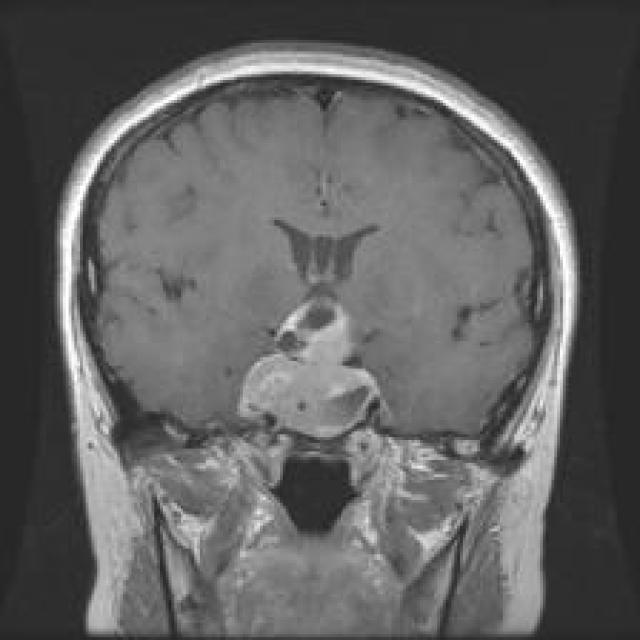pituitary_tumor: (222, 283, 400, 443)
